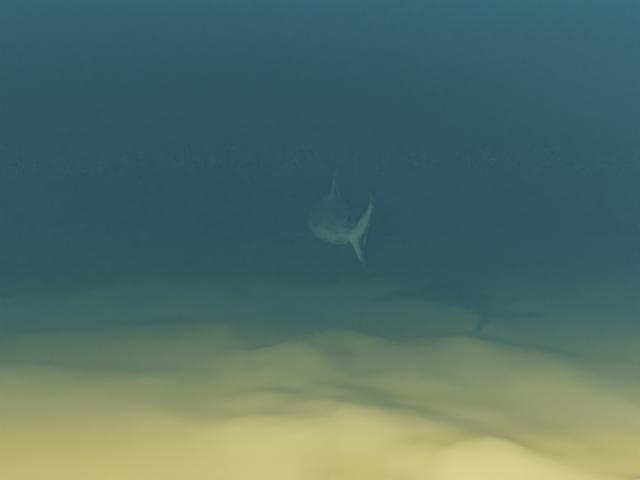Carribean Shark.001: (258, 168, 409, 273)
